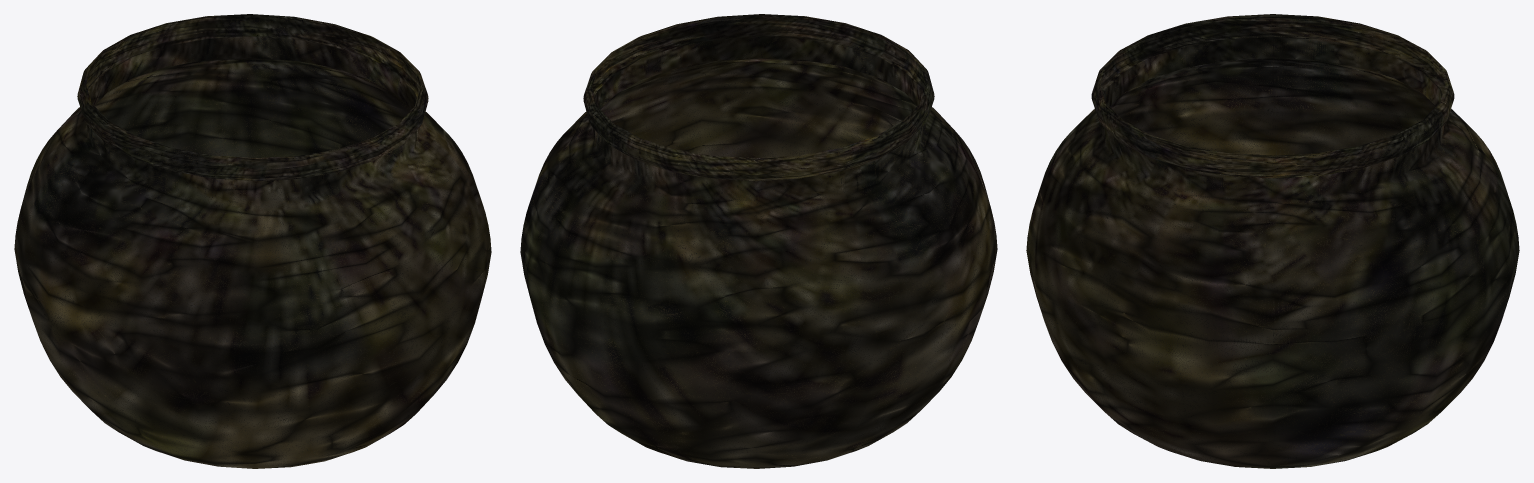
File: cauldron_black.obj
3 views of the same model, side by side, from view 1: azimuth 30°, elevation 25°; view 2: azimuth 150°, elevation 25°; view 3: azimuth 270°, elevation 25° (orthographic).
Parts seen in each view (by area): view 1: caudron; view 2: caudron; view 3: caudron.
Part boxes in pixels (x1,y1,x2,y2): caudron: (14, 14, 491, 468); caudron: (520, 14, 997, 468); caudron: (1026, 14, 1519, 468).
Size of the model in its own units: 15.21 by 11.87 by 15.74.
Materials: 2 (2 with a texture image).
